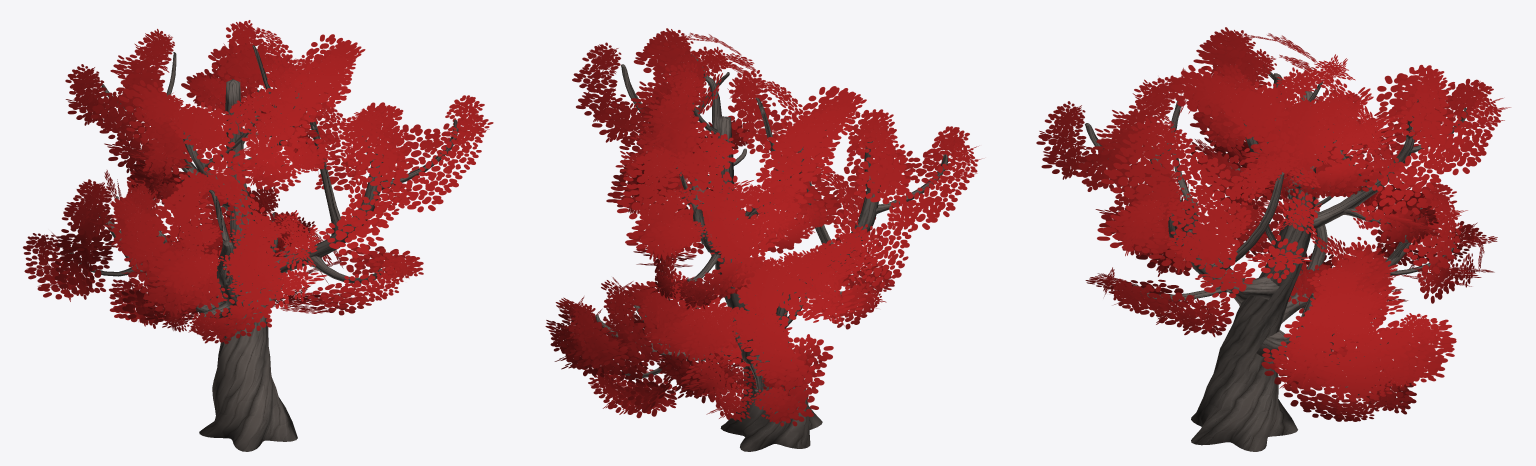
The model's file is ARBOL Gigantesco.glb.
The picture shows the model from 3 angles, left to right: view 1: azimuth 30°, elevation 25°; view 2: azimuth 150°, elevation 25°; view 3: azimuth 270°, elevation 25°; orthographic projection. The views are drawn at different scales.
Parts seen in each view (by area): view 1: TwistedTree_3; view 2: TwistedTree_3; view 3: TwistedTree_3.
Part boxes in pixels (x1,y1,x2,y2): TwistedTree_3: (23, 20, 493, 451); TwistedTree_3: (545, 28, 982, 451); TwistedTree_3: (1036, 27, 1510, 451).
Bounding box in the file's own units: 20.36 × 19.57 × 22.07.
Materials: 2 (2 with a texture image).
